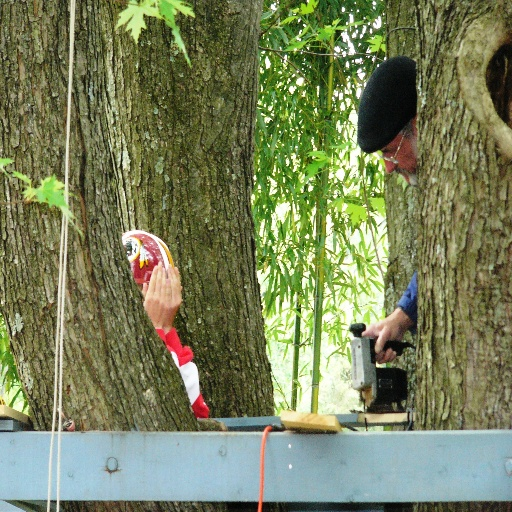hand: (356, 267, 426, 385), (359, 312, 403, 363), (141, 260, 166, 328), (166, 261, 182, 330)
